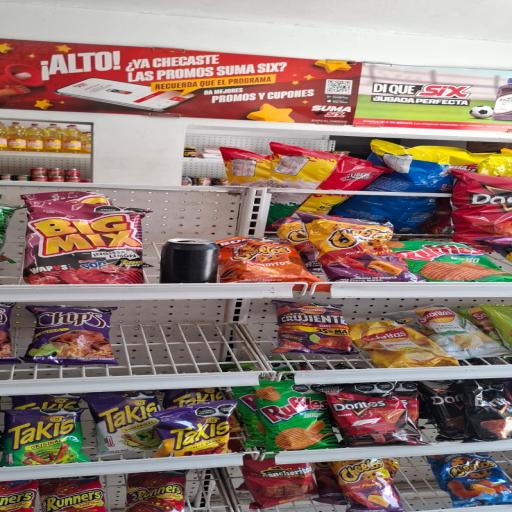LATA: (153, 234, 230, 289)
